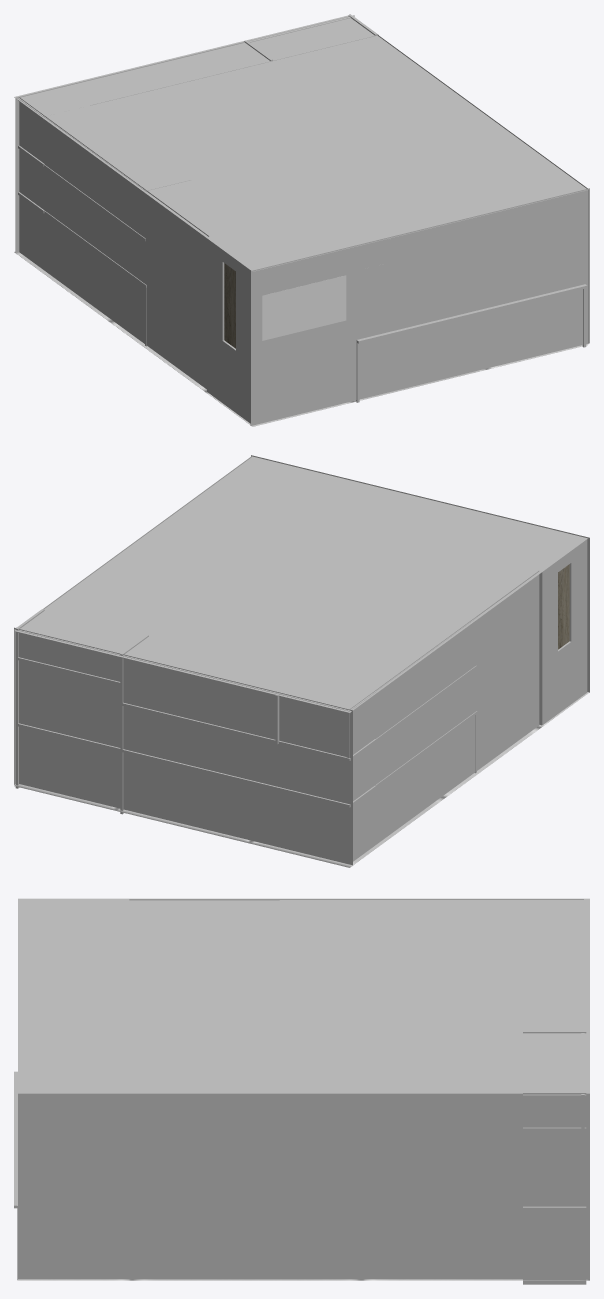
File: roomhrnew.fbx
The picture shows the model from 3 angles, top to bottom: view 1: azimuth 30°, elevation 25°; view 2: azimuth 150°, elevation 25°; view 3: azimuth 270°, elevation 25°; orthographic projection. The views are drawn at different scales.
Visible parts, largest first — view 1: Cube.005, Cube.003, Cube.001, Cube.043, Cube.035, Cube.034, Cube, Cube.027, Cube.006, Cube.004, Cube.010, Cube.044 (+1 smaller); view 2: Cube.005, Cube.004, Cube.001, Cube.030, Cube.043, Cube.035, Cube.034, Cube.029, Cube.027, Cube.006, Cube.003, Cube.022 (+5 smaller); view 3: Cube.002, Cube.005, Cube.035, Cube.034, Cube.027, Cube.006, Cube.001, Cube.028, Cube.010.
Part boxes in pixels (x1,y1,x2,y2): Cube.005: (14, 15, 587, 271); Cube.003: (250, 188, 589, 425); Cube.001: (19, 97, 209, 389); Cube.043: (207, 238, 250, 423); Cube.035: (18, 43, 270, 119); Cube.034: (44, 105, 191, 191); Cube: (262, 275, 346, 340); Cube.027: (250, 17, 378, 60); Cube.006: (14, 252, 588, 426); Cube.004: (15, 15, 354, 252); Cube.010: (357, 284, 587, 343); Cube.044: (224, 263, 235, 348); Cube.005: (14, 456, 587, 712); Cube.004: (14, 627, 352, 865); Cube.001: (349, 570, 539, 861); Cube.030: (123, 658, 345, 756); Cube.043: (539, 539, 587, 725); Cube.035: (122, 636, 375, 713); Cube.034: (330, 606, 476, 691); Cube.029: (15, 627, 120, 681); Cube.027: (14, 611, 144, 657); Cube.006: (14, 692, 588, 867); Cube.003: (251, 455, 589, 692); Cube.022: (121, 749, 376, 807); Cube.002: (18, 1093, 589, 1279); Cube.005: (18, 898, 589, 1095); Cube.035: (523, 899, 586, 1030); Cube.034: (279, 900, 522, 926); Cube.027: (523, 1033, 586, 1098); Cube.006: (18, 1279, 589, 1280); Cube.001: (129, 899, 583, 900); Cube.028: (523, 1091, 586, 1284); Cube.010: (14, 1071, 17, 1208).
Size of the model in its own units: 10023 by 4503 by 12282.
